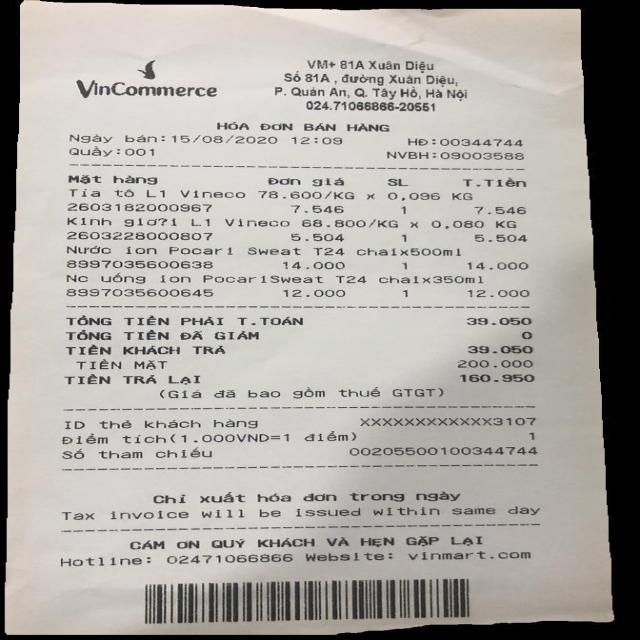Date: (170, 132, 283, 147)
Store_Name: (68, 79, 227, 106)
amount_number: (463, 314, 536, 328)
label_total: (64, 314, 305, 328)
